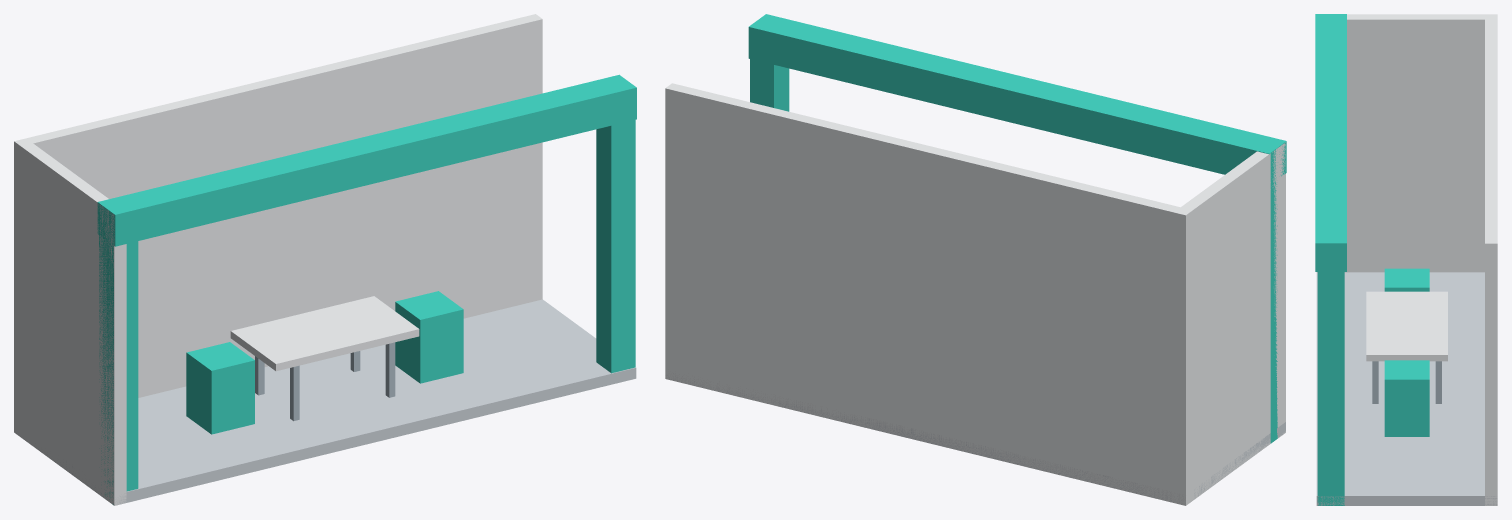
3 renders of one model, left to right at view 1: azimuth 30°, elevation 25°; view 2: azimuth 150°, elevation 25°; view 3: azimuth 270°, elevation 25°, orthographic. The views are drawn at different scales.
Visible parts, largest first — view 1: Exhibition Booth Concept; view 2: Exhibition Booth Concept; view 3: Exhibition Booth Concept.
Boxes of the visible parts, x1,y1,x2,y2 form: Exhibition Booth Concept: [14, 14, 636, 505]; Exhibition Booth Concept: [665, 14, 1286, 505]; Exhibition Booth Concept: [1315, 14, 1497, 505].
Bounding box in the file's own units: 6 × 3.2 × 2.01.
